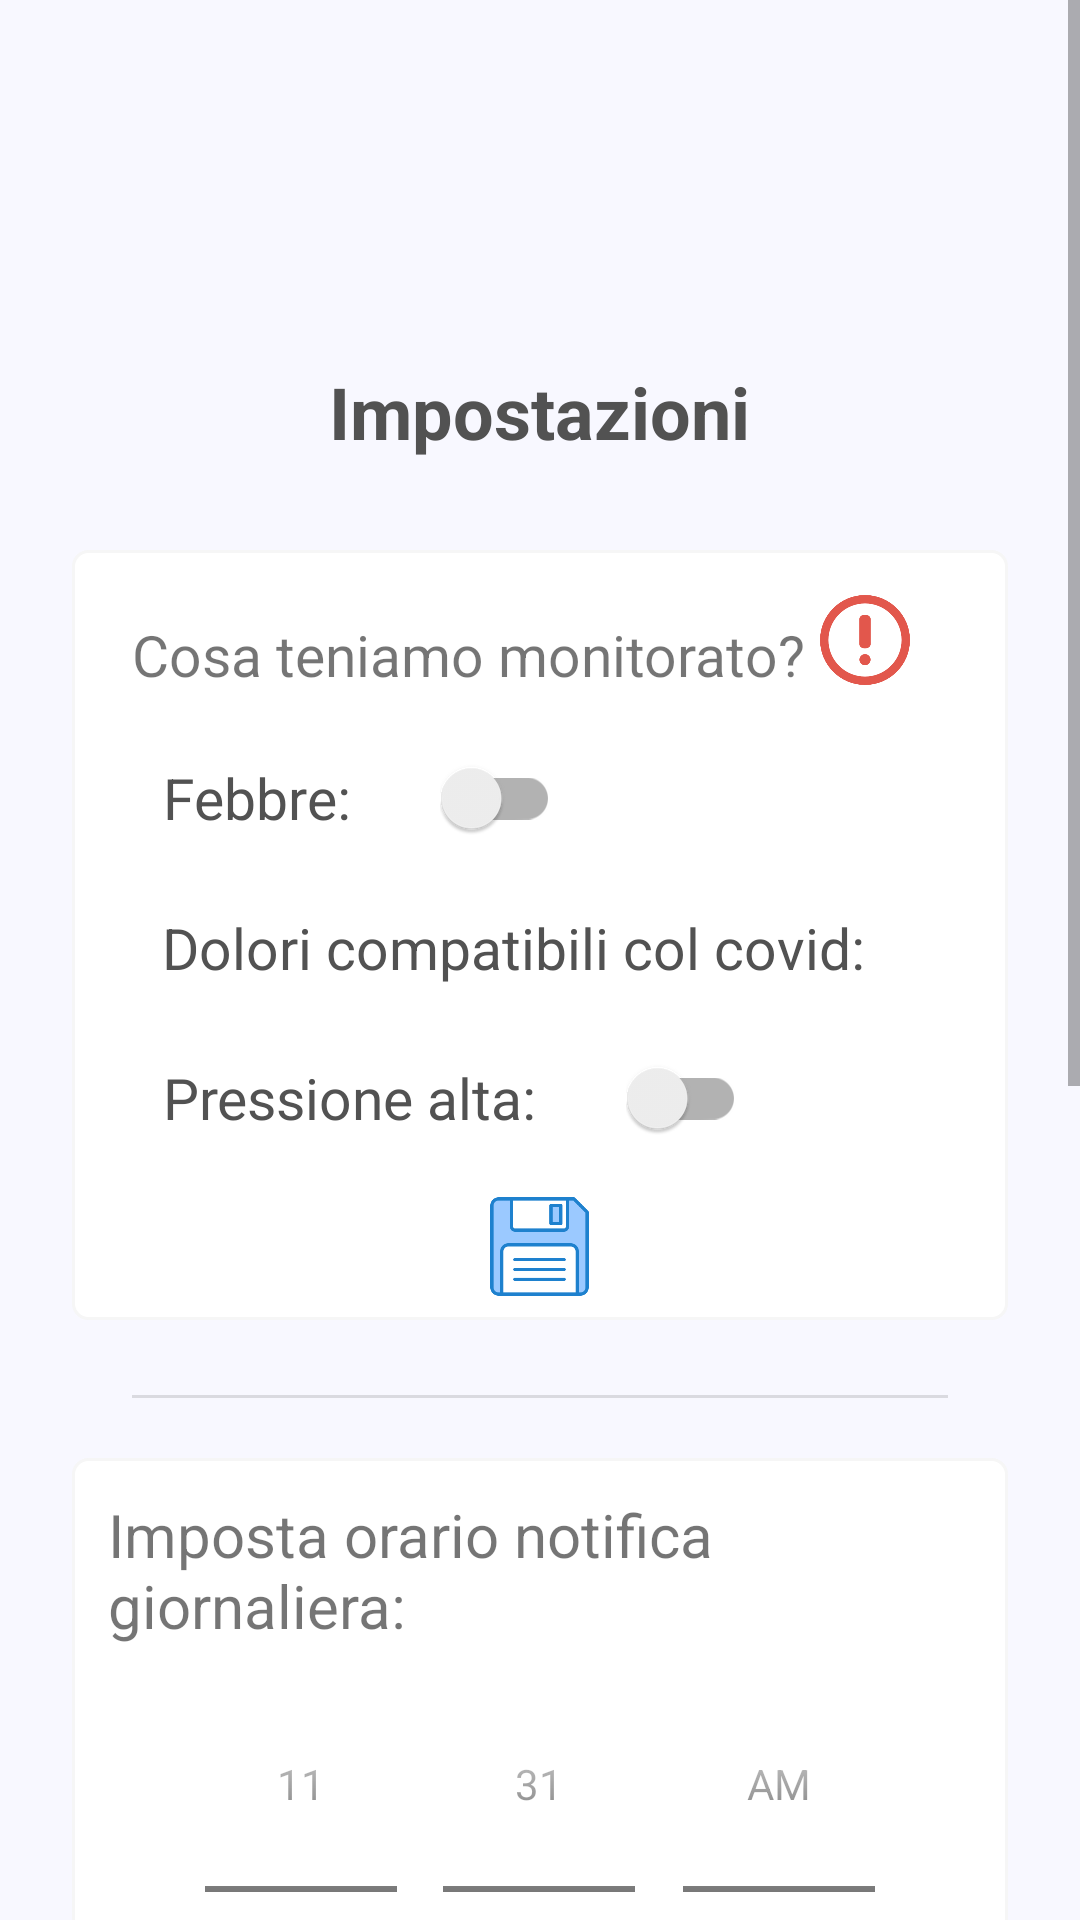

Named icons in this screenshot (1080px×1920px) and their centers, point (x, y):
save: point (539, 1246)
